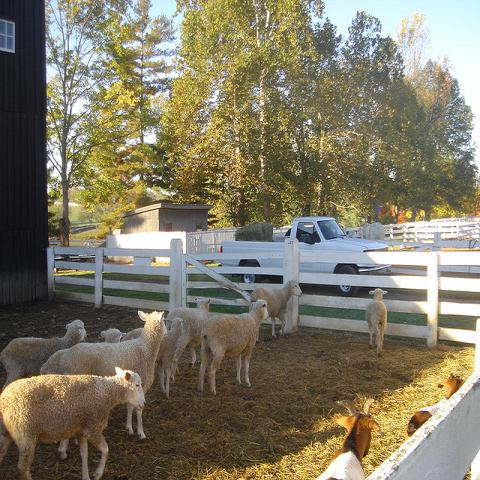truck: (222, 217, 386, 252)
